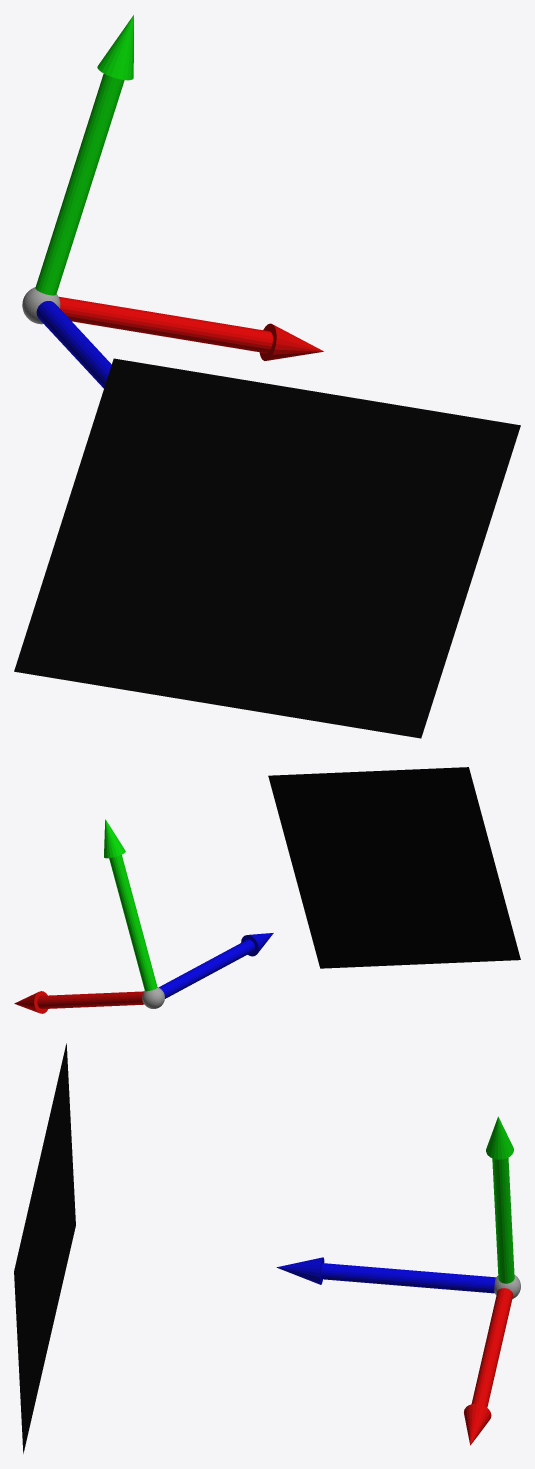
3 views of the same model, one above another, from view 1: azimuth 30°, elevation 25°; view 2: azimuth 150°, elevation 25°; view 3: azimuth 270°, elevation 25° (orthographic). The views are drawn at different scales.
Bounding box in the file's own units: 0.2623 × 0.2072 × 0.2708.
